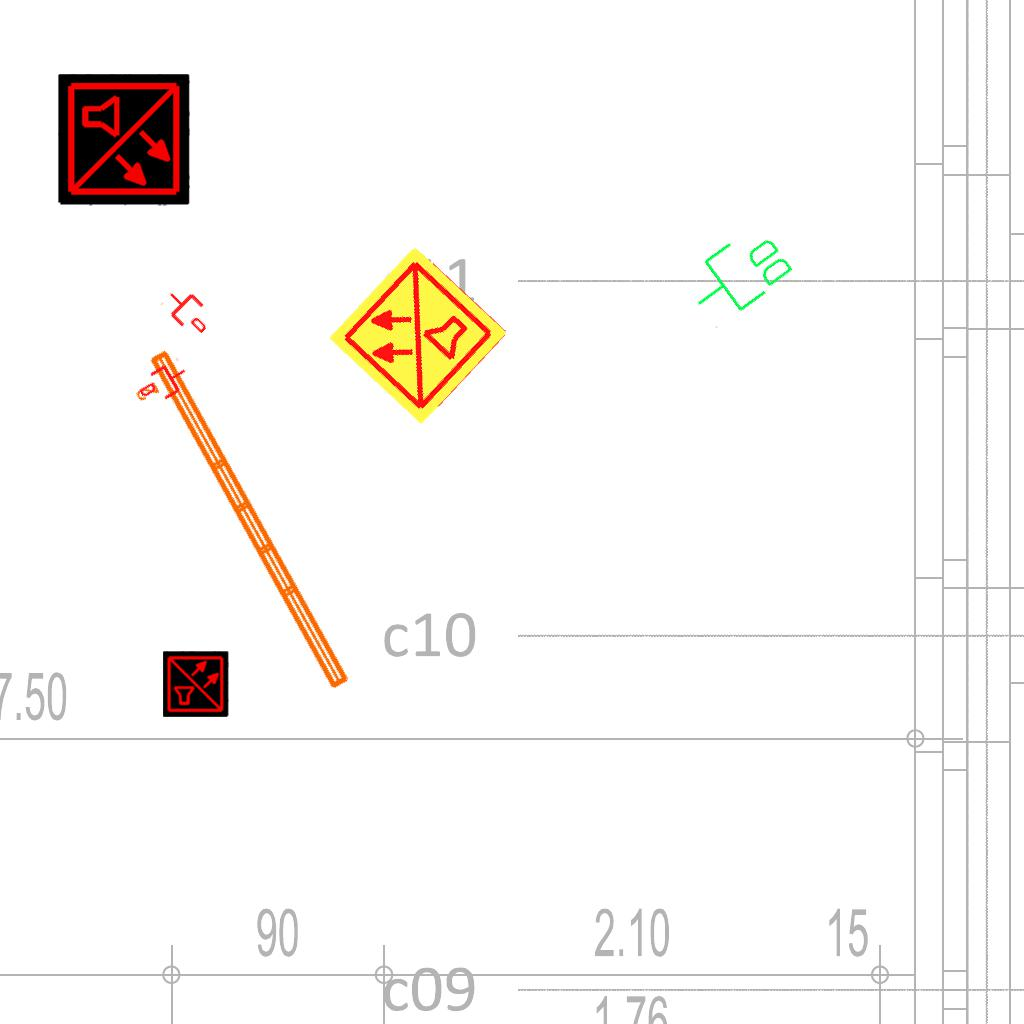Ambulanz_Pendelleuchte_LED: (120, 343, 357, 709)
Datenanschluss_einfach: (158, 281, 218, 341), (133, 355, 195, 411)
Datenanschluss_zweifach: (676, 217, 801, 334)
OKW_Multisensormelder_(Kombination_optischer_Rauch-Kahlenmonoxid_Waerme-Melder): (324, 241, 512, 429), (58, 74, 190, 206), (163, 651, 229, 717)
